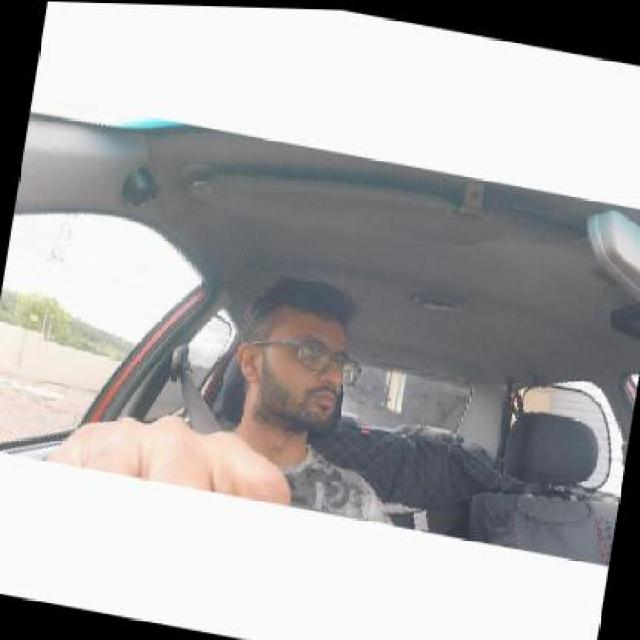LeftRight: (230, 280, 360, 426)
